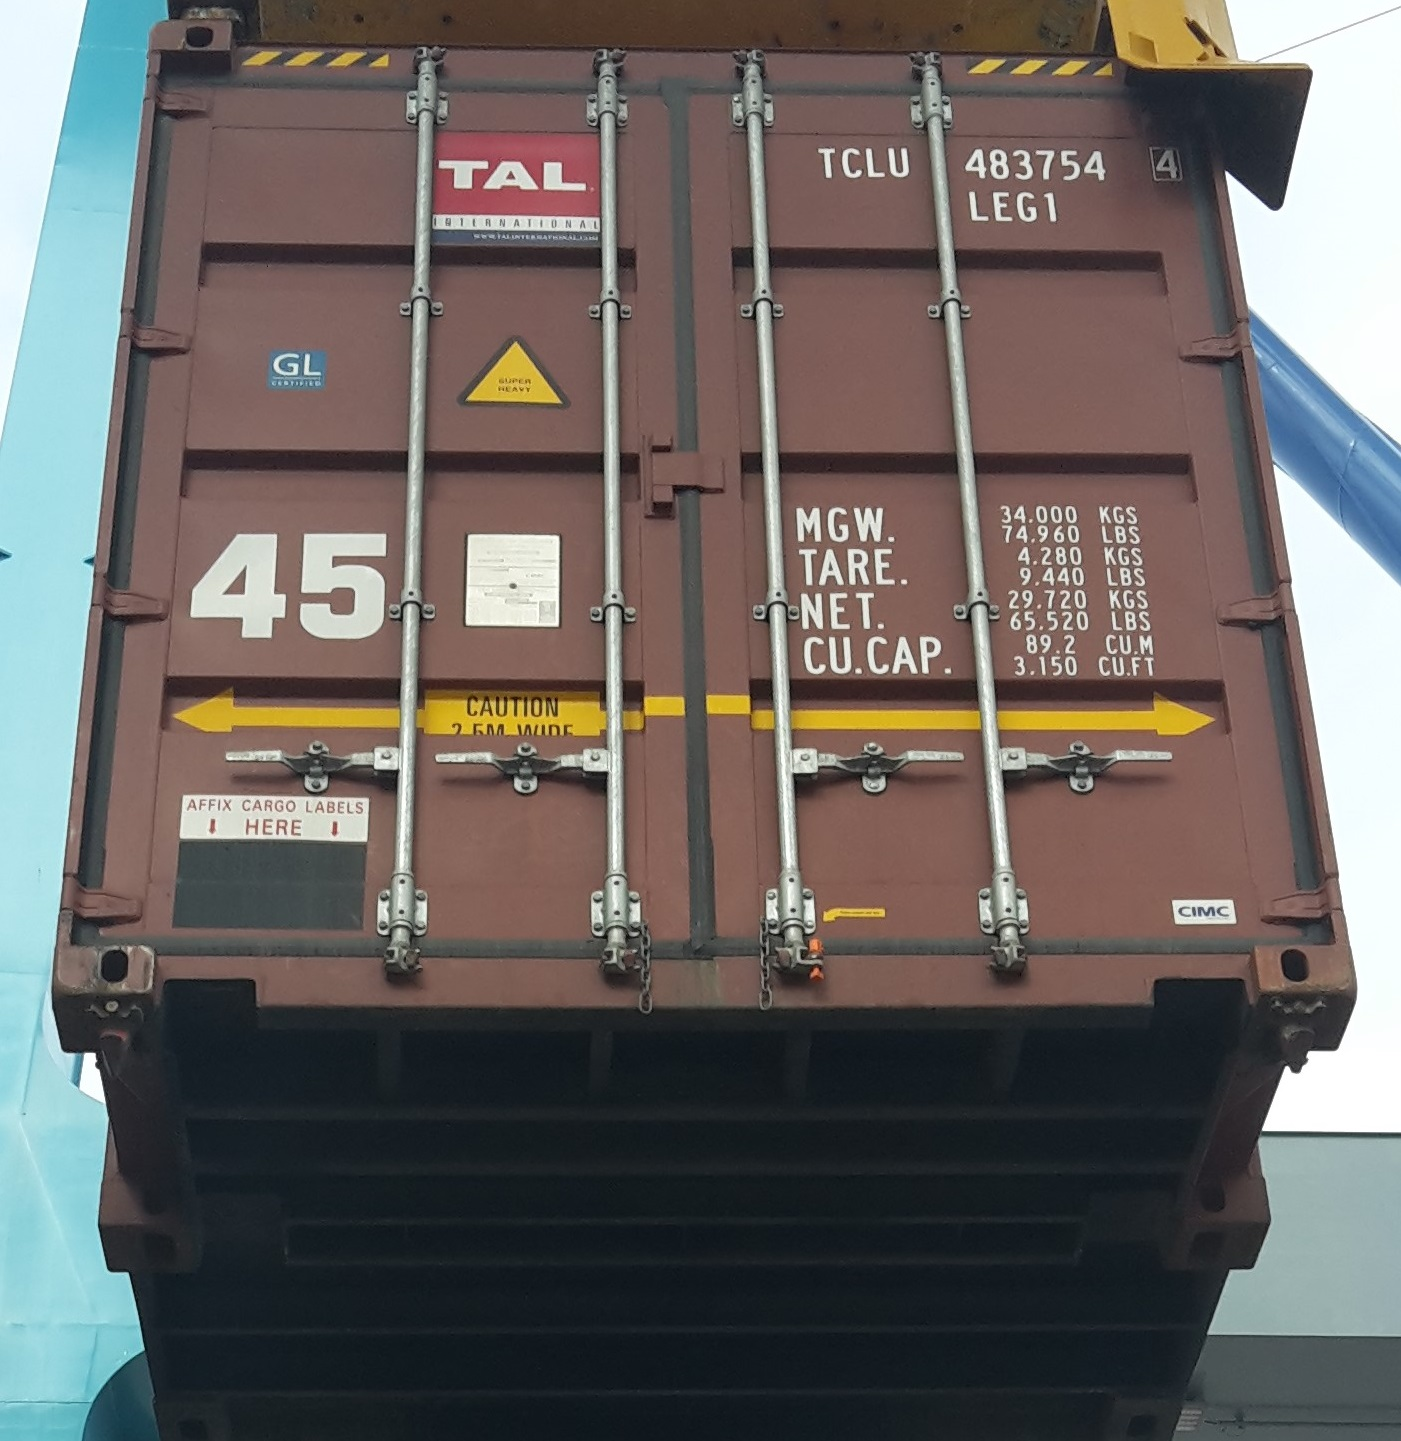container_door: (54, 10, 1353, 1007)
